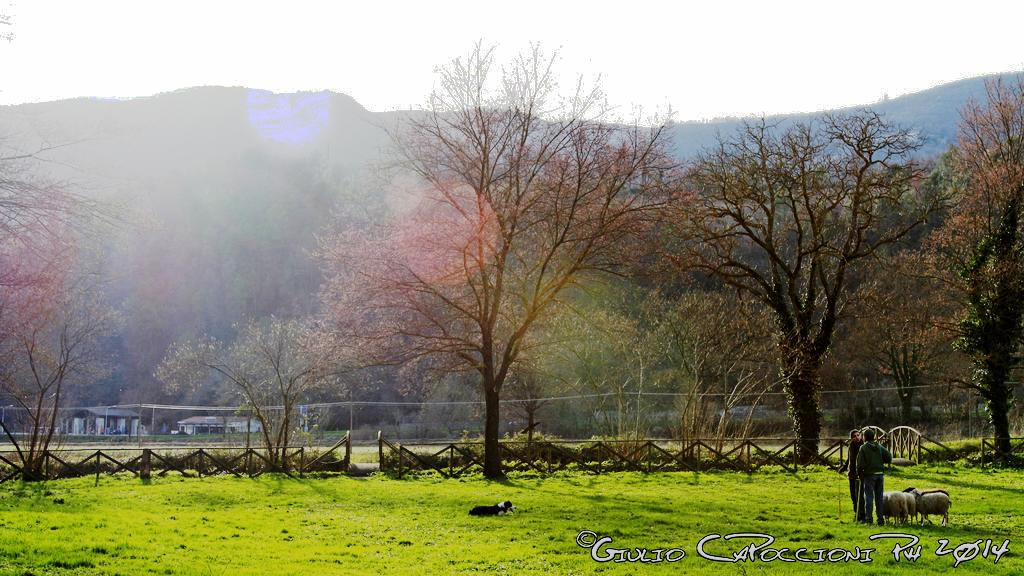Sheep: (916, 495, 954, 525), (880, 492, 908, 526), (908, 494, 918, 524)
